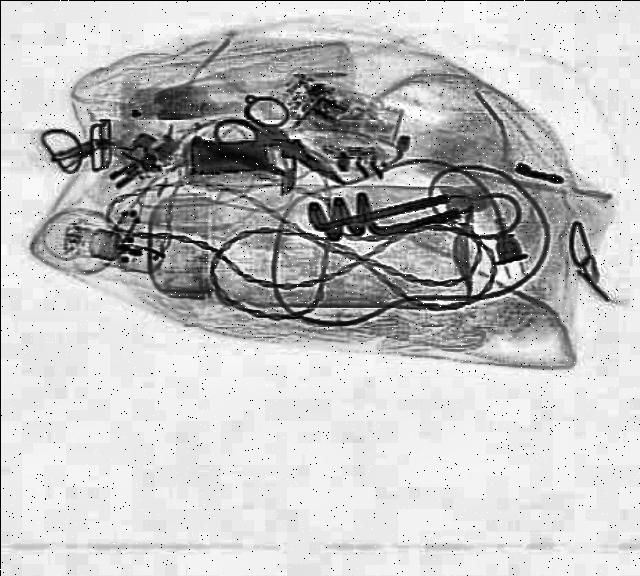Scissors: (207, 80, 373, 208)
